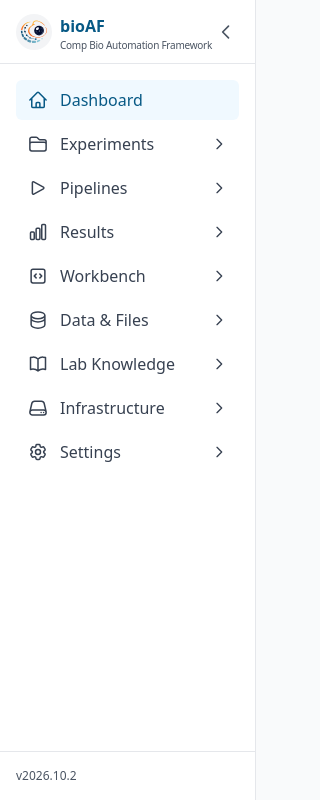
Test: Sidebar single-expanded behavior › only one section is expanded at any time across many toggles
Step 1. Click the button "Pipelines" → click(128, 188), box [16, 168, 239, 208]
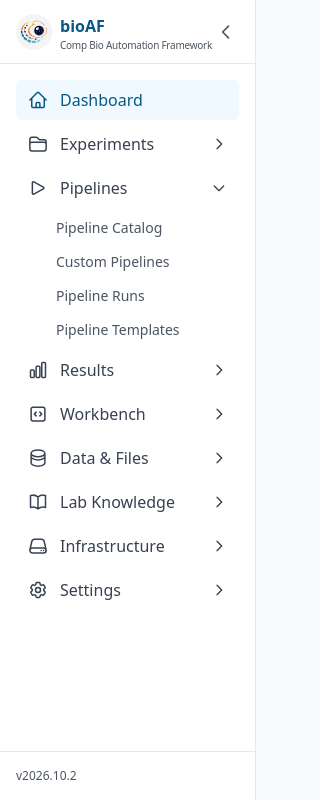
Step 2. Click the button "Workbench" → click(128, 414), box [16, 394, 239, 434]
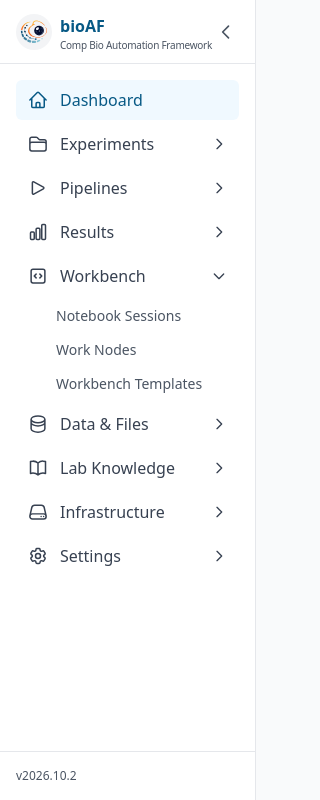
Step 3. Click the button "Results" → click(128, 232), box [16, 212, 239, 252]
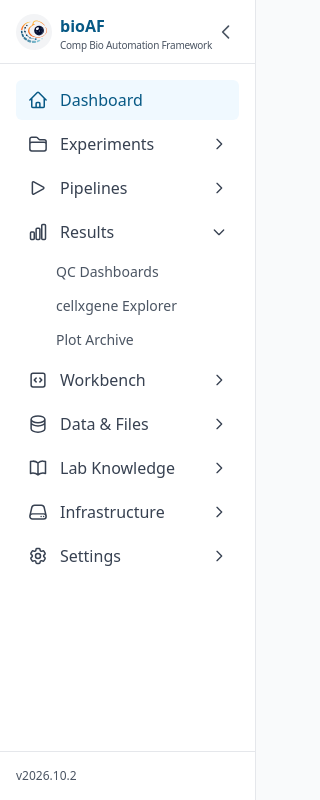
expect the element with test id "children-Results" is shown: met, box [56, 262, 177, 349]
expect the element with test id "children-Workbench" is gone: met
